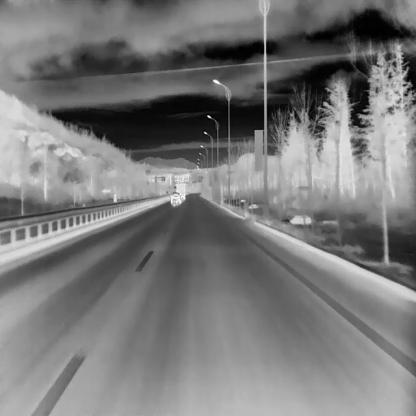car: (170, 192, 182, 204)
truck: (176, 183, 186, 200)
